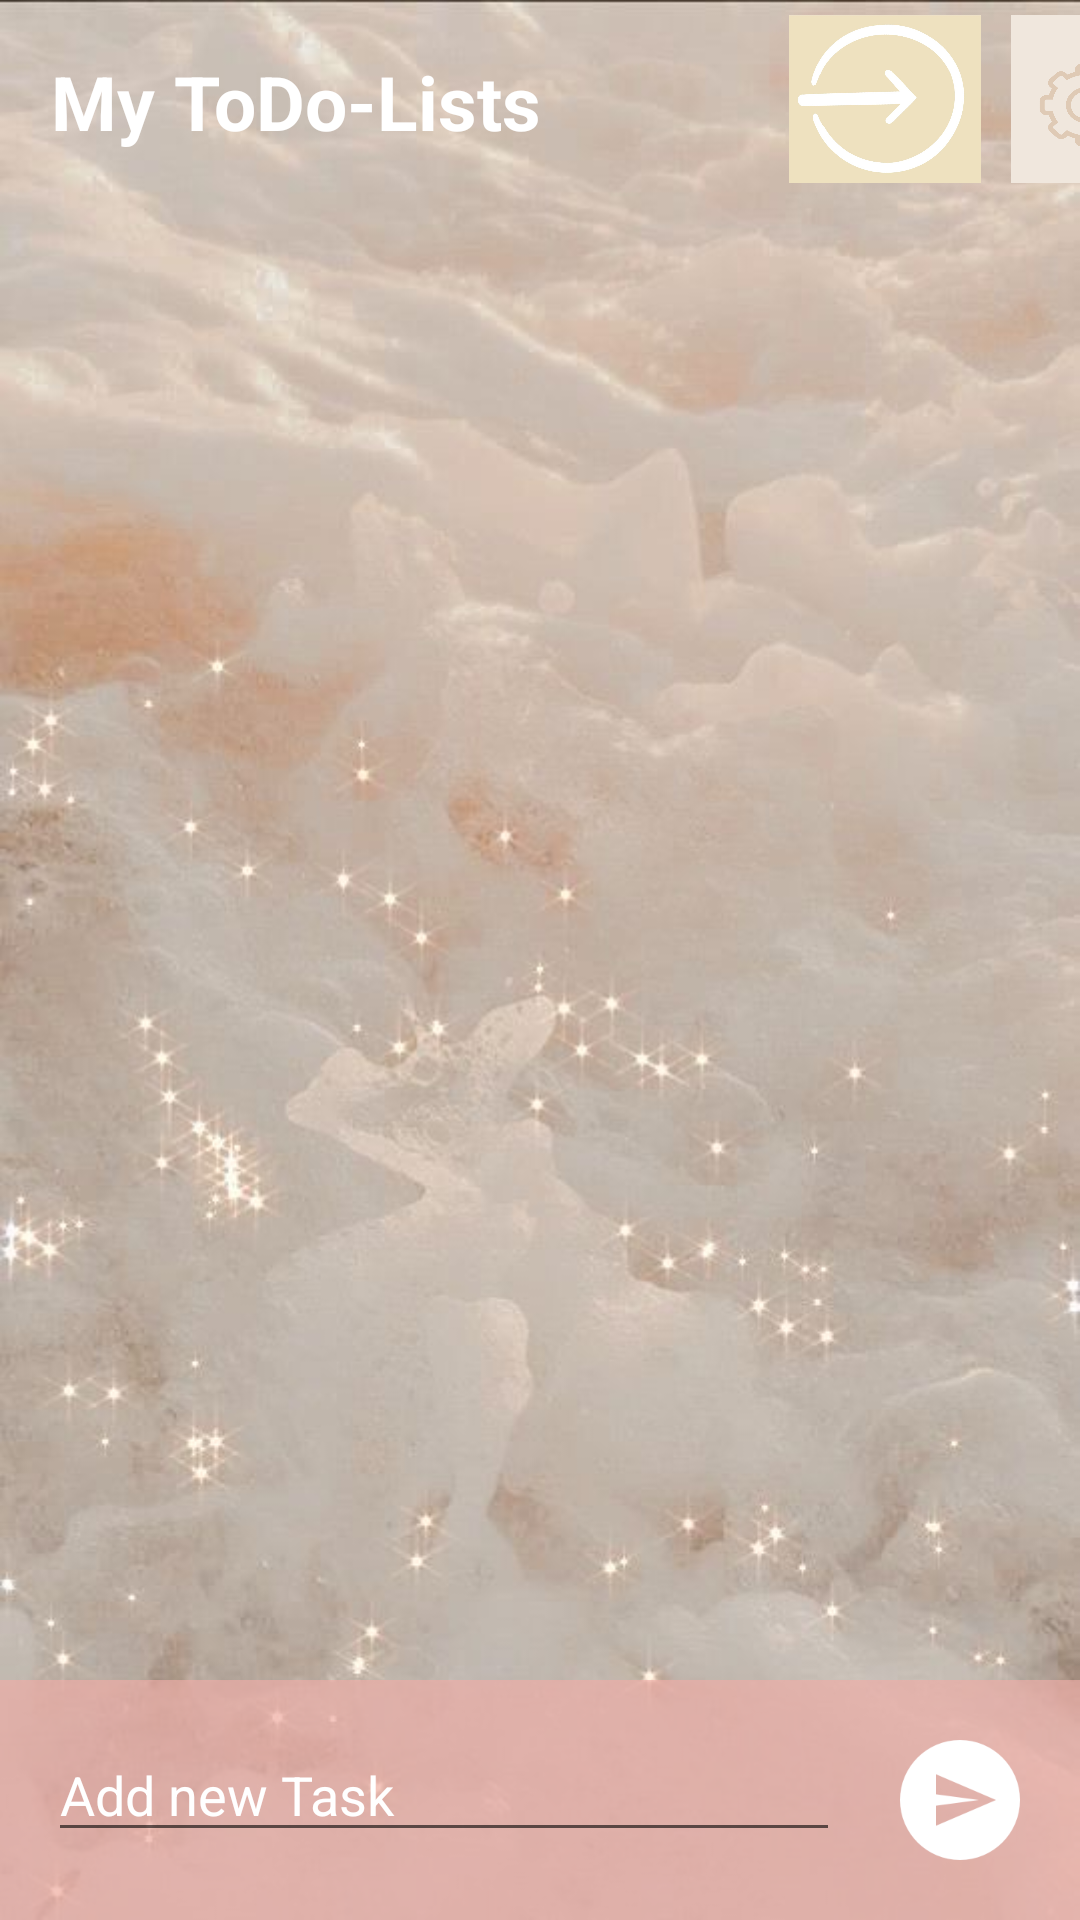

Named icons in this screenshot (1080×1920) and their centers, (x=x, y=y):
send: (x=960, y=1800)
signout: (x=885, y=99)
